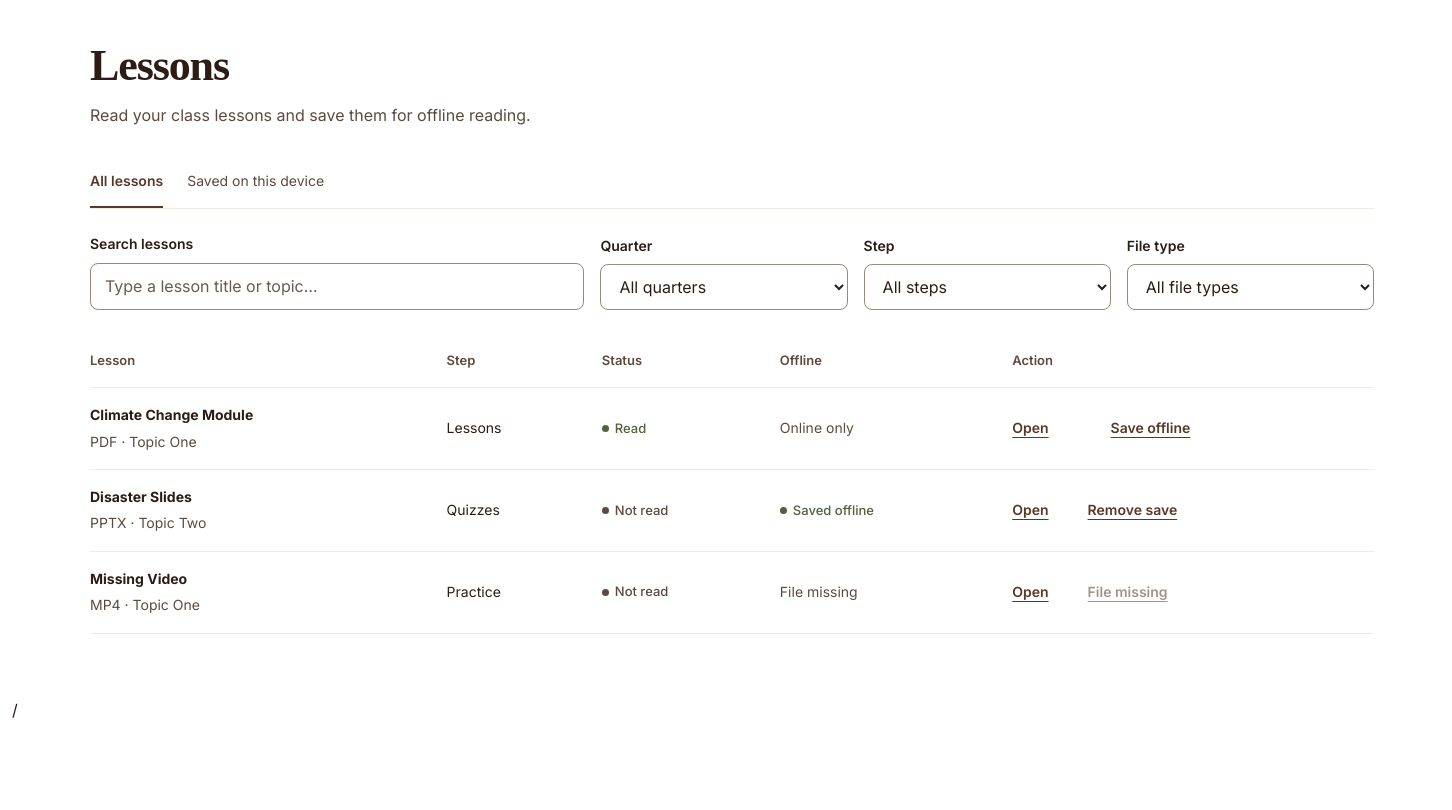
Test case: MaterialsHub (learner) › shows the error when saving offline fails
Expected: the text "Climate Change Module" is shown, [90,406,253,423]
What coordinates should you click on to do the following:
click the button "Save offline"
I would click on:
 (1139, 429)
Its box is [1088,407,1190,451].
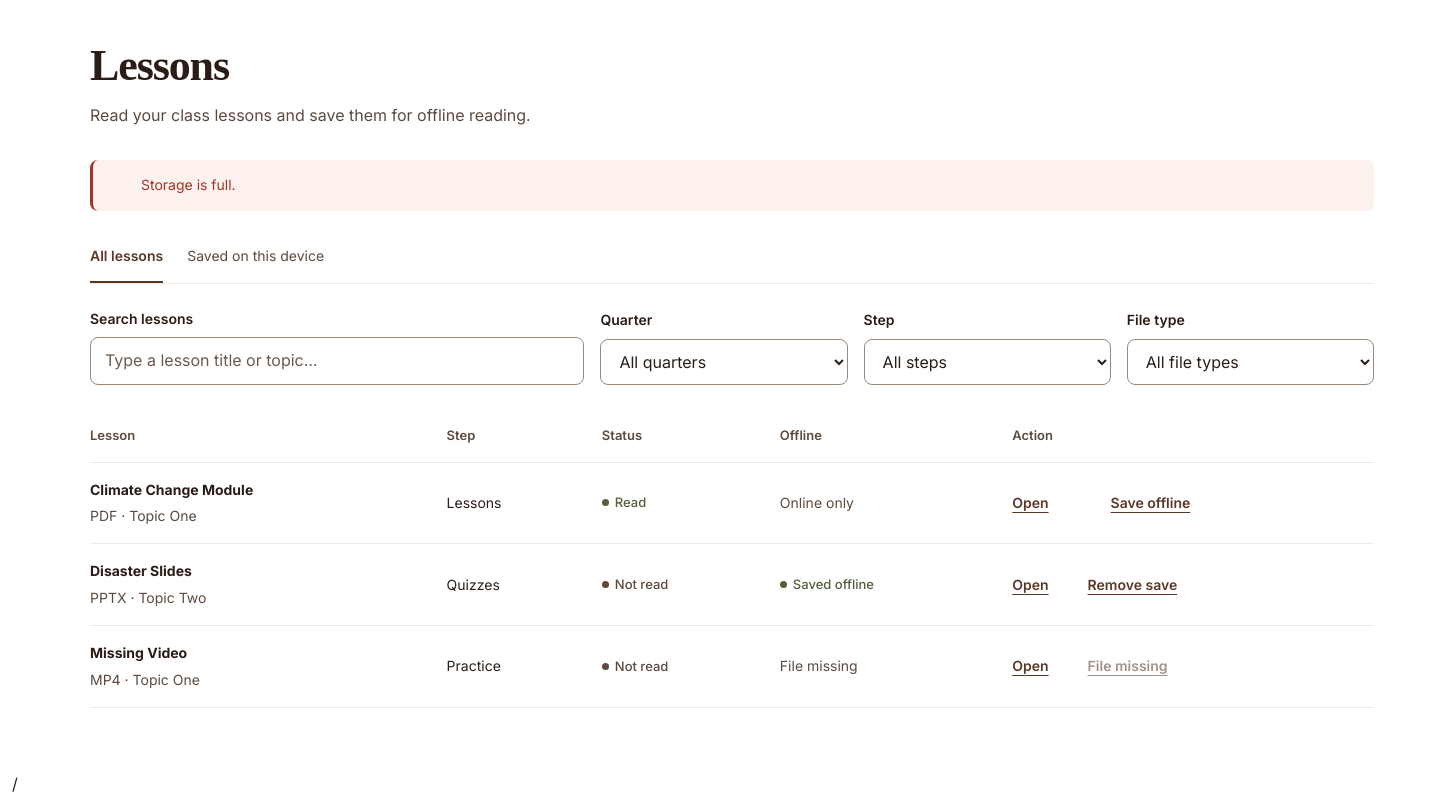
Result: the message reads "Storage is full." at [141,176,236,193]
